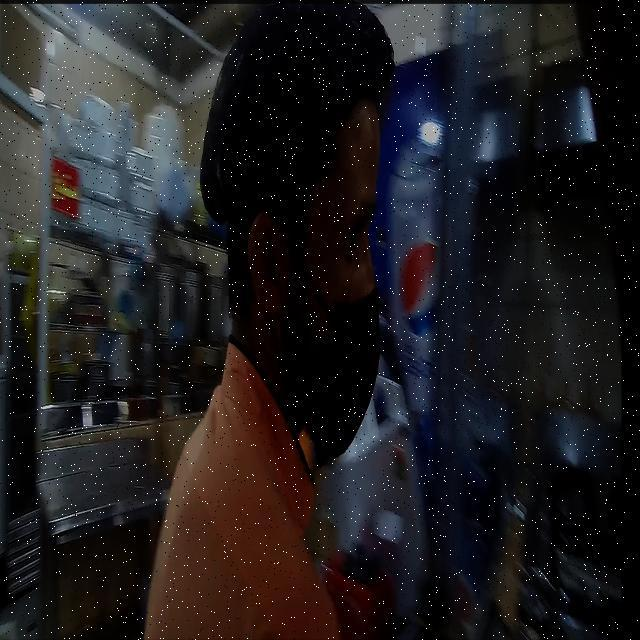face_mask: (241, 89, 381, 472)
